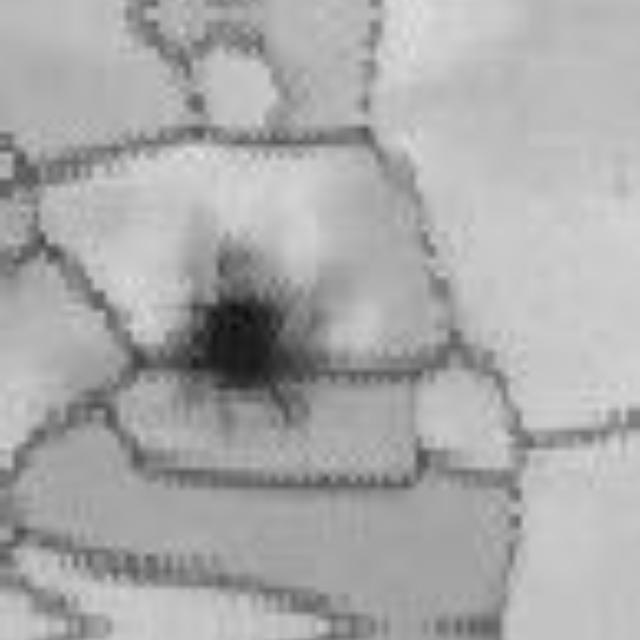good_void: (150, 223, 335, 440)
